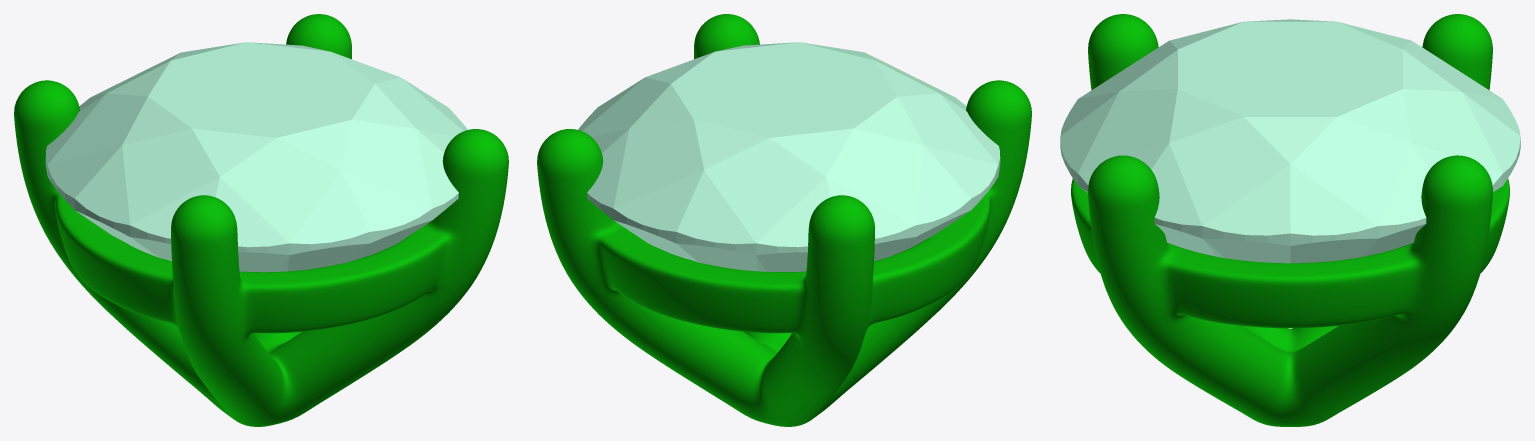
3 views of the same model, side by side, from view 1: azimuth 30°, elevation 25°; view 2: azimuth 150°, elevation 25°; view 3: azimuth 270°, elevation 25° (orthographic). The views are drawn at different scales.
Visible parts, largest first — view 1: CS_Diamond, Metal01; view 2: CS_Diamond, Metal01; view 3: CS_Diamond, Metal01.
Part boxes in pixels (box(x1,y1,x2,y2)): CS_Diamond: box(45, 42, 467, 272); Metal01: box(14, 14, 508, 426); CS_Diamond: box(578, 42, 1000, 271); Metal01: box(537, 14, 1031, 426); CS_Diamond: box(1060, 19, 1520, 263); Metal01: box(1071, 14, 1509, 426).
Bounding box in the file's own units: 8.2 × 6.83 × 8.2.
